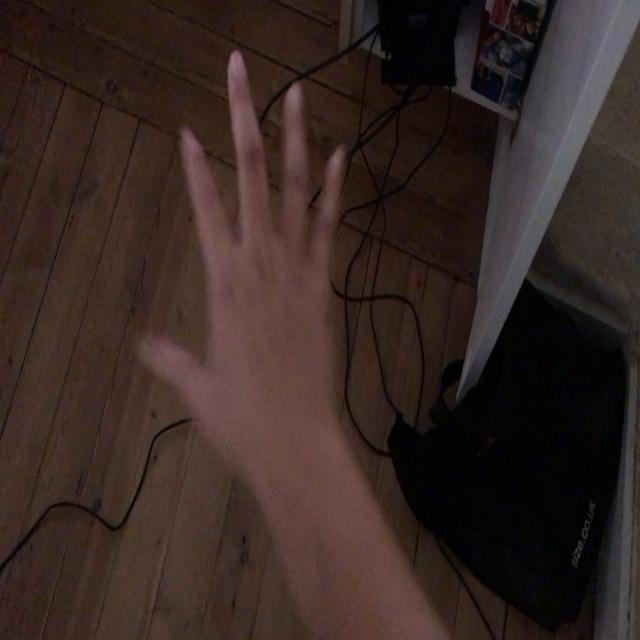hand: (133, 46, 346, 446)
